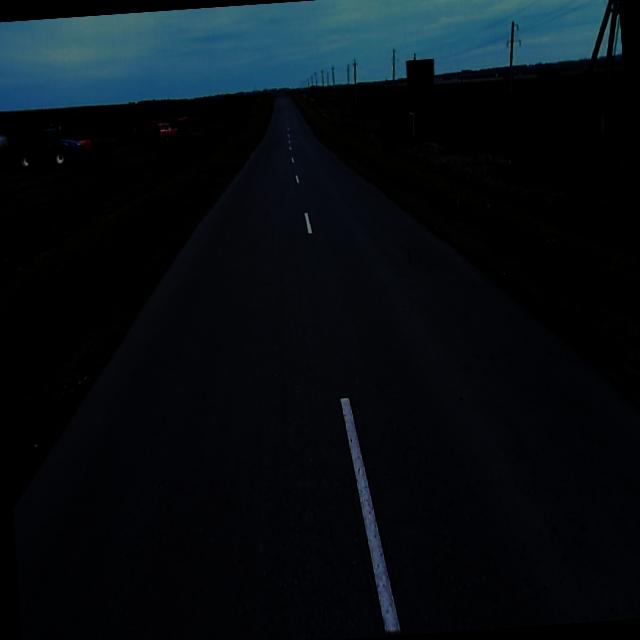road: (12, 95, 640, 640)
